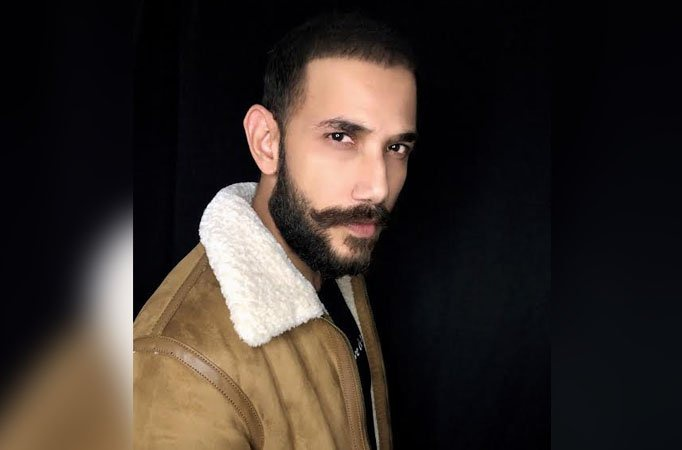bad: (287, 98, 442, 253)
